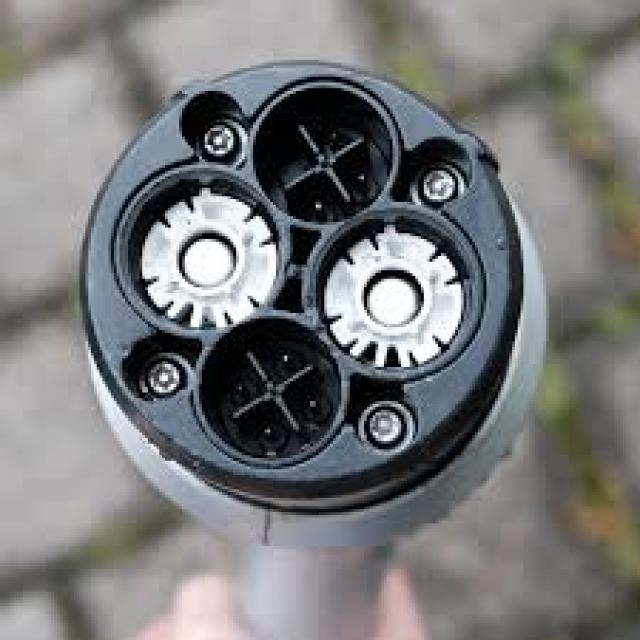CHAdeMO: (60, 57, 538, 506)
